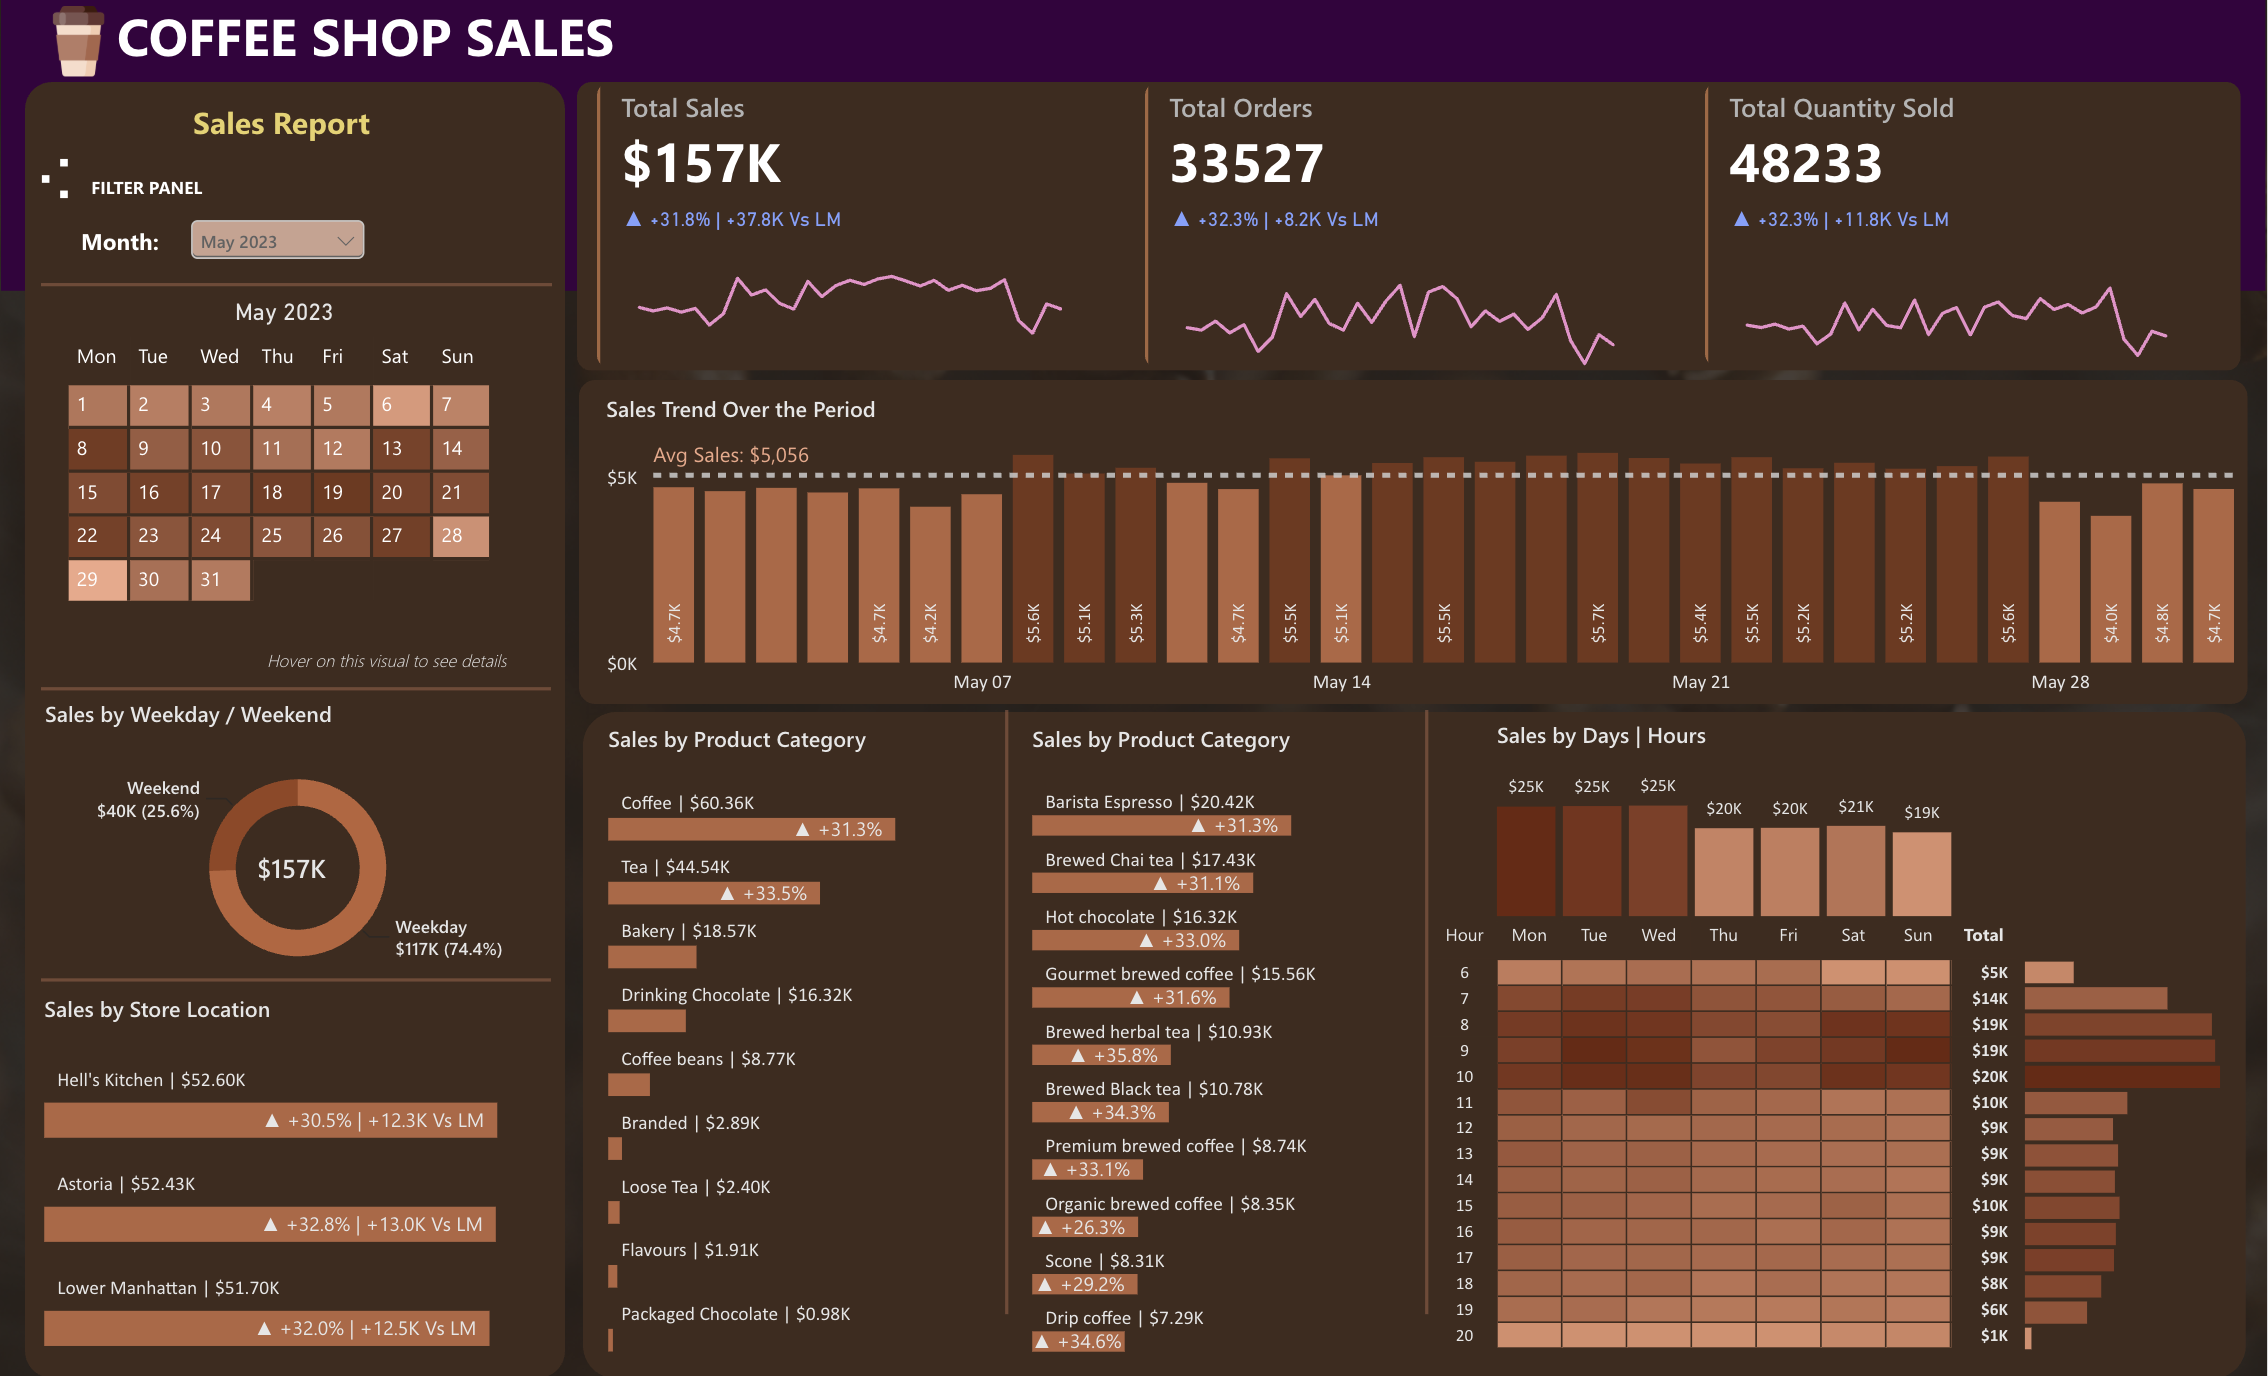

This screenshot's page, from the dashboard's own definition file:
{"tool":"powerbi","page":{"name":"Page 1","canvas":[1400,850],"ordinal":0},"visuals":[{"type":"shape","box":[1.3,0.6,1397.8,179.7],"z":0},{"type":"shape","box":[15.6,51.1,333.3,800],"z":1000},{"type":"shape","box":[356.7,51.1,1026.9,178.2],"z":1000,"group":"g6"},{"type":"cardVisual","fields":{"Data":["Transactions.Total Sales"]},"box":[369,51.6,312,177.8],"z":1000,"group":"g3"},{"type":"textbox","box":[72.6,0,339.3,56.1],"z":2000},{"type":"lineChart","fields":{"Category":["Date Table.Date.Variation.Date Hierarchy.Year","Date Table.Date.Variation.Date Hierarchy.Quarter","Date Table.Date.Variation.Date Hierarchy.Month","Date Table.Date.Variation.Date Hierarchy.Day"],"Y":["Transactions.Total Sales"]},"box":[368.5,114.9,312.2,128.9],"z":3000,"group":"g3"},{"type":"slicer","fields":{"Values":["Date Table.Month Year"]},"box":[113.2,131,116.8,44.3],"z":3000},{"type":"cardVisual","fields":{"Data":["Transactions.Total Orders"]},"box":[707,51.6,314.7,177.8],"z":4000,"group":"g2"},{"type":"cardVisual","fields":{"Data":["Transactions.Total Quantity Sold"]},"box":[1052.7,51.6,310.2,176.9],"z":4000,"group":"g4"},{"type":"group","id":"g1","title":"Group 4","box":[0,164.4,373.7,288.1],"z":4000},{"type":"group","id":"g2","title":"Group 1","box":[707,51.6,315,191.7],"z":5000,"group":"g9"},{"type":"shape","box":[26.1,397.1,314.8,55.3],"z":5000},{"type":"group","id":"g3","title":"Group 2","box":[368.5,51.6,312.2,191.7],"z":6000,"group":"g9"},{"type":"lineChart","fields":{"Category":["Date Table.Date.Variation.Date Hierarchy.Year","Date Table.Date.Variation.Date Hierarchy.Quarter","Date Table.Date.Variation.Date Hierarchy.Month","Date Table.Date.Variation.Date Hierarchy.Day"],"Y":["Transactions.Total Quantity Sold"]},"box":[1052.7,114.1,310.4,128.2],"z":6000,"group":"g4"},{"type":"lineChart","fields":{"Category":["Date Table.Date.Variation.Date Hierarchy.Year","Date Table.Date.Variation.Date Hierarchy.Quarter","Date Table.Date.Variation.Date Hierarchy.Month","Date Table.Date.Variation.Date Hierarchy.Day"],"Y":["Transactions.Total Orders"]},"box":[707,114.5,315,128.9],"z":6000,"group":"g2"},{"type":"shape","box":[25.8,147.9,315.4,55.1],"z":6000},{"type":"group","id":"g4","title":"Group 1","box":[1052.7,51.6,310.4,190.7],"z":7000,"group":"g9"},{"type":"shape","box":[26.1,578.3,314.8,54.3],"z":7000},{"type":"pivotTable","fields":{"Columns":["Date Table.Day Name"],"Rows":["Date Table.Week Number"],"Values":["Min(Date Table.Day Number)"]},"box":[0,194.4,373.7,258.1],"z":8000,"group":"g7"},{"type":"clusteredBarChart","title":"Sales by Store Location","fields":{"Category":["Transactions.store_location"],"Y":["Transactions.Placeholder","Transactions.Total Sales"]},"box":[26.4,611.5,323,225.3],"z":8000},{"type":"cardVisual","fields":{"Data":["Min(Date Table.Month Year)"]},"box":[129,164.4,108,59.9],"z":9000,"group":"g1"},{"type":"group","id":"g5","title":"Group 5","box":[11.9,417.6,344.1,204.7],"z":9000},{"type":"group","id":"g6","title":"Group 6","box":[356.7,51.1,1027.8,192.2],"z":10000},{"type":"cardVisual","fields":{"Data":["Transactions.Foot Note"]},"box":[149.1,384.9,211.2,47.4],"z":10000,"group":"g7"},{"type":"group","id":"g7","title":"Group 3","box":[0,194.4,373.7,258.1],"z":10001,"group":"g1"},{"type":"group","id":"g8","title":"Group 7","box":[357.6,235.1,1030.3,200],"z":11000},{"type":"donutChart","title":"Sales by Weekday / Weekend","fields":{"Category":["Date Table.Weekday / Weekend"],"Y":["Transactions.Total Sales"]},"box":[11.9,417.6,344.1,204.7],"z":11000,"group":"g5"},{"type":"shape","box":[360.9,439.1,1026.4,411.5],"z":12000},{"type":"cardVisual","fields":{"Data":["Transactions.Total Sales"]},"box":[142.5,505.6,87.9,60.9],"z":12000,"group":"g5"},{"type":"clusteredBarChart","title":"Sales by Product Category","fields":{"Category":["Transactions.product_category"],"Y":["Transactions.Placeholder","Transactions.Total Sales"]},"box":[374.6,444,238.8,392.5],"z":13000},{"type":"shape","box":[357.6,235.1,1029.9,200],"z":14000,"group":"g8"},{"type":"shape","box":[588.1,438.6,68.8,373.2],"z":14000},{"type":"columnChart","title":"Sales Trend Over the Period","fields":{"Category":["Transactions.transaction_date"],"Y":["Transactions.Total Sales"]},"box":[373,240.8,1014.9,194.3],"z":15000,"group":"g8"},{"type":"shape","box":[847.1,438.6,68.8,373.2],"z":15000},{"type":"clusteredBarChart","title":"Sales by Product Category","fields":{"Category":["Transactions.product_type"],"Y":["Transactions.Placeholder","Transactions.Total Sales"]},"box":[635.8,444,238.8,392.5],"z":16000},{"type":"pivotTable","fields":{"Columns":["Date Table.Day Name"],"Rows":["Transactions.Hour"],"Values":["Transactions.Total Sales"]},"box":[869,566.7,520.7,283.9],"z":17000},{"type":"clusteredBarChart","fields":{"Category":["Transactions.Hour"],"Y":["Transactions.Total Sales"]},"box":[1234.7,571,138.6,277.3],"z":18000},{"type":"columnChart","title":"Sales by Days | Hours","fields":{"Category":["Date Table.Day Name"],"Y":["Transactions.Total Sales"]},"box":[908.2,444,297,138.1],"z":19000},{"type":"textbox","box":[50.7,139.5,62.5,25.4],"z":19001},{"type":"textbox","box":[119.5,63.1,149.4,36.8],"z":19002},{"type":"textbox","box":[22,85.1,145.8,57.5],"z":19003},{"type":"image","box":[12.2,3.3,73.3,43.3],"z":19004},{"type":"group","id":"g9","title":"Group 8","box":[368.5,51.6,994.7,191.7],"z":19005,"group":"g6"}]}

Visuals, with their boxes in screenshot pixels (x1, y1, x2, y2), scaled from the page's 1400x850 canvas onto the 2268x1376 screenshot:
shape: [left=2, top=1, right=2267, bottom=292]
shape: [left=25, top=83, right=565, bottom=1375]
shape: [left=578, top=83, right=2241, bottom=371]
cardVisual - Transactions.Total Sales: [left=598, top=84, right=1103, bottom=371]
textbox: [left=118, top=0, right=667, bottom=91]
lineChart - Date Table.Date.Variation.Date Hierarchy.Year x Date Table.Date.Variation.Date Hierarchy.Quarter: [left=597, top=186, right=1103, bottom=395]
slicer - Date Table.Month Year: [left=183, top=212, right=373, bottom=284]
cardVisual - Transactions.Total Orders: [left=1145, top=84, right=1655, bottom=371]
cardVisual - Transactions.Total Quantity Sold: [left=1705, top=84, right=2208, bottom=370]
"Group 4" group: [left=0, top=266, right=605, bottom=733]
"Group 1" group: [left=1145, top=84, right=1656, bottom=394]
shape: [left=42, top=643, right=552, bottom=732]
"Group 2" group: [left=597, top=84, right=1103, bottom=394]
lineChart - Date Table.Date.Variation.Date Hierarchy.Year x Date Table.Date.Variation.Date Hierarchy.Quarter: [left=1705, top=185, right=2208, bottom=392]
lineChart - Date Table.Date.Variation.Date Hierarchy.Year x Date Table.Date.Variation.Date Hierarchy.Quarter: [left=1145, top=185, right=1656, bottom=394]
shape: [left=42, top=239, right=553, bottom=329]
"Group 1" group: [left=1705, top=84, right=2208, bottom=392]
shape: [left=42, top=936, right=552, bottom=1024]
pivotTable - Date Table.Day Name x Date Table.Week Number: [left=0, top=315, right=605, bottom=733]
"Sales by Store Location" clusteredBarChart: [left=43, top=990, right=566, bottom=1355]
cardVisual - Min(Date Table.Month Year): [left=209, top=266, right=384, bottom=363]
"Group 5" group: [left=19, top=676, right=577, bottom=1007]
"Group 6" group: [left=578, top=83, right=2243, bottom=394]
cardVisual - Transactions.Foot Note: [left=242, top=623, right=584, bottom=700]
"Group 3" group: [left=0, top=315, right=605, bottom=733]
"Group 7" group: [left=579, top=381, right=2248, bottom=704]
"Sales by Weekday / Weekend" donutChart: [left=19, top=676, right=577, bottom=1007]
shape: [left=585, top=711, right=2247, bottom=1375]
cardVisual - Transactions.Total Sales: [left=231, top=818, right=373, bottom=917]
"Sales by Product Category" clusteredBarChart: [left=607, top=719, right=994, bottom=1354]
shape: [left=579, top=381, right=2248, bottom=704]
shape: [left=953, top=710, right=1064, bottom=1314]
"Sales Trend Over the Period" columnChart: [left=604, top=390, right=2248, bottom=704]
shape: [left=1372, top=710, right=1484, bottom=1314]
"Sales by Product Category" clusteredBarChart: [left=1030, top=719, right=1417, bottom=1354]
pivotTable - Date Table.Day Name x Transactions.Hour: [left=1408, top=917, right=2251, bottom=1375]
clusteredBarChart - Transactions.Hour x Transactions.Total Sales: [left=2000, top=924, right=2225, bottom=1373]
"Sales by Days | Hours" columnChart: [left=1471, top=719, right=1952, bottom=942]
textbox: [left=82, top=226, right=183, bottom=267]
textbox: [left=194, top=102, right=436, bottom=162]
textbox: [left=36, top=138, right=272, bottom=231]
image: [left=20, top=5, right=139, bottom=75]
"Group 8" group: [left=597, top=84, right=2208, bottom=394]
